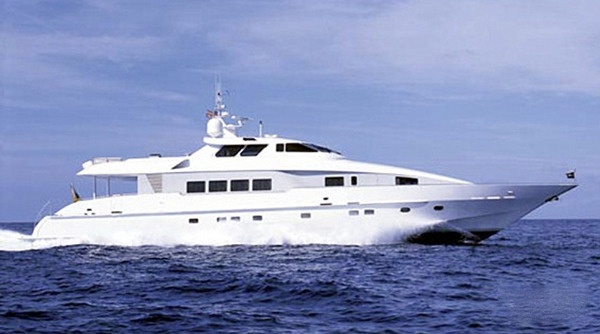yacht: (29, 74, 579, 251)
